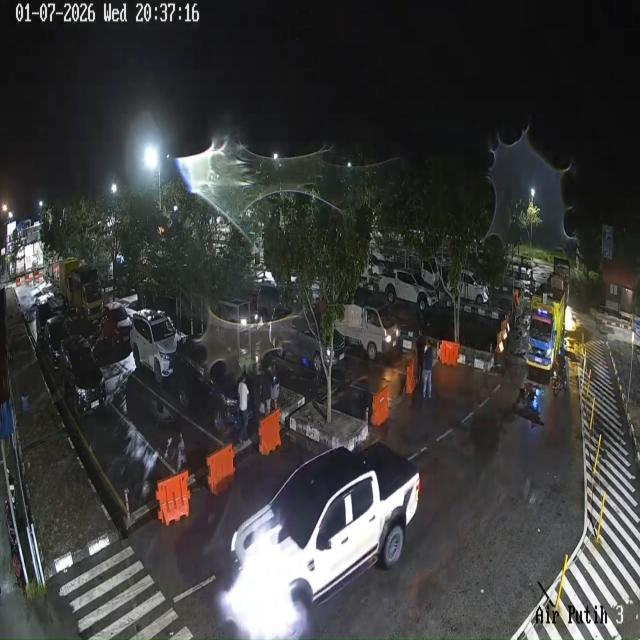Golongan IVA: (268, 307, 346, 374), (59, 336, 106, 418), (130, 309, 177, 384), (42, 315, 70, 371), (100, 301, 132, 346), (35, 299, 54, 345)
Golongan IVB: (225, 443, 420, 638), (336, 304, 400, 360), (378, 270, 438, 311)
Golongan VB: (526, 276, 567, 371)
